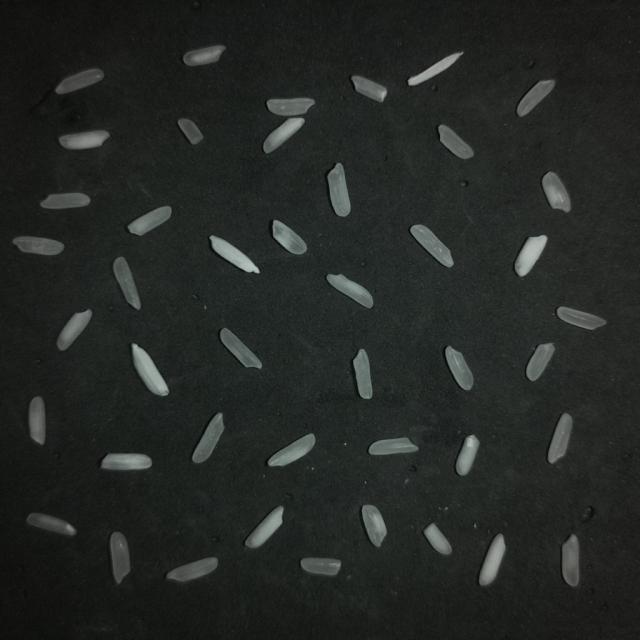broken: (178, 119, 203, 144)
chalky: (410, 225, 453, 267), (245, 506, 284, 548), (327, 274, 373, 308), (268, 434, 315, 466), (263, 118, 304, 153), (57, 310, 92, 350), (479, 534, 505, 586), (515, 235, 547, 276), (128, 206, 171, 236), (445, 346, 473, 390), (327, 163, 350, 216), (272, 220, 306, 254), (27, 513, 76, 536), (542, 172, 570, 212), (362, 505, 387, 546), (351, 75, 387, 102), (59, 130, 109, 149), (456, 435, 479, 475), (354, 349, 372, 399), (183, 45, 225, 66), (424, 523, 451, 554), (29, 397, 45, 444)
foreign: (407, 52, 463, 86), (132, 344, 168, 396), (210, 235, 259, 273)
whole: (220, 328, 262, 368), (192, 413, 224, 463), (114, 257, 141, 309), (517, 80, 554, 116), (166, 557, 218, 582), (55, 69, 103, 94), (438, 125, 473, 159), (548, 414, 572, 463), (557, 307, 606, 329), (526, 343, 554, 381), (110, 532, 130, 584), (13, 237, 64, 255), (101, 454, 152, 471), (267, 98, 314, 116), (369, 437, 418, 454), (40, 193, 90, 209), (300, 558, 341, 576)
